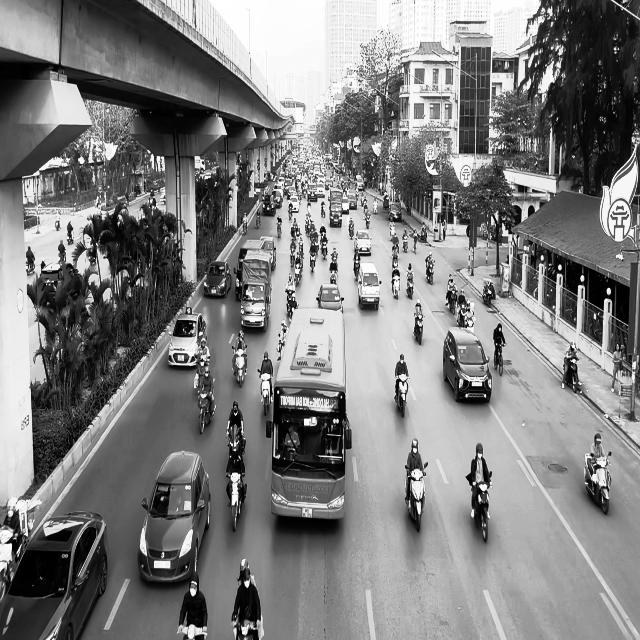bus: (266, 306, 352, 520)
car: (0, 510, 109, 640), (138, 450, 211, 584), (443, 327, 492, 403), (168, 311, 208, 368), (240, 278, 271, 332), (358, 262, 382, 310), (204, 260, 232, 298), (316, 284, 344, 312), (260, 236, 277, 271), (354, 229, 372, 255)
motorbike: (466, 471, 492, 542), (584, 451, 612, 514), (404, 461, 428, 532), (226, 470, 248, 531), (197, 379, 216, 434), (232, 615, 264, 640), (562, 356, 582, 394), (258, 370, 274, 416), (232, 342, 248, 386), (395, 374, 410, 417), (494, 340, 506, 376), (414, 314, 424, 345), (483, 279, 494, 306), (392, 268, 401, 300), (426, 259, 436, 284), (407, 272, 414, 298), (26, 255, 35, 275), (67, 229, 74, 244)
